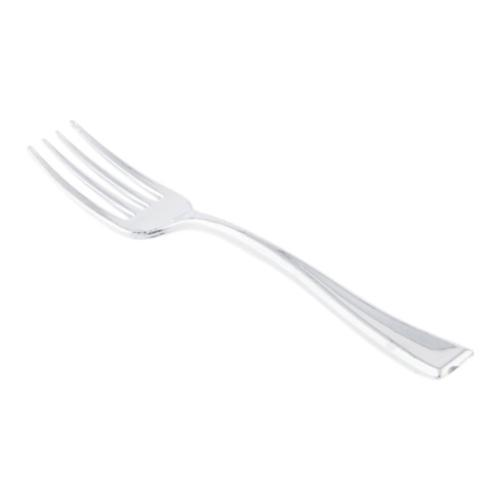Fork: (26, 119, 474, 380)
